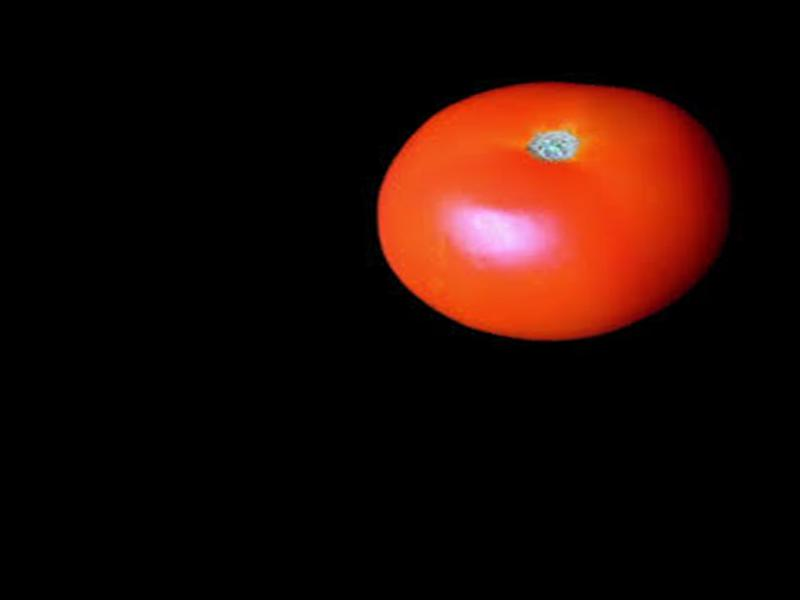Tomato: (367, 70, 739, 351)
